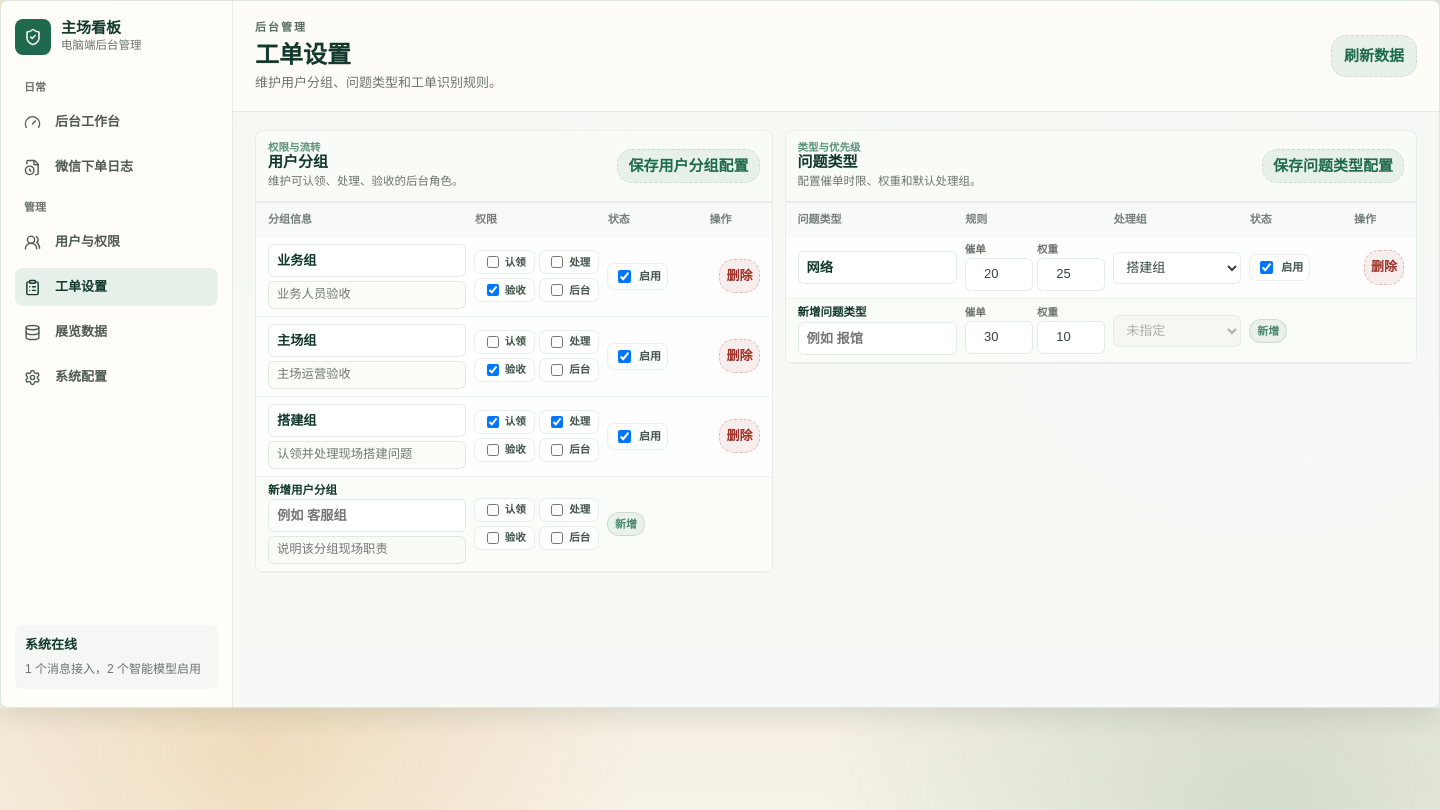
it: AdminConfigCenter user groups › shows validation feedback as a floating admin toast instead of occupying the settings layout
Clear the field named "网络名称" at (877, 268), box [798, 251, 957, 284]
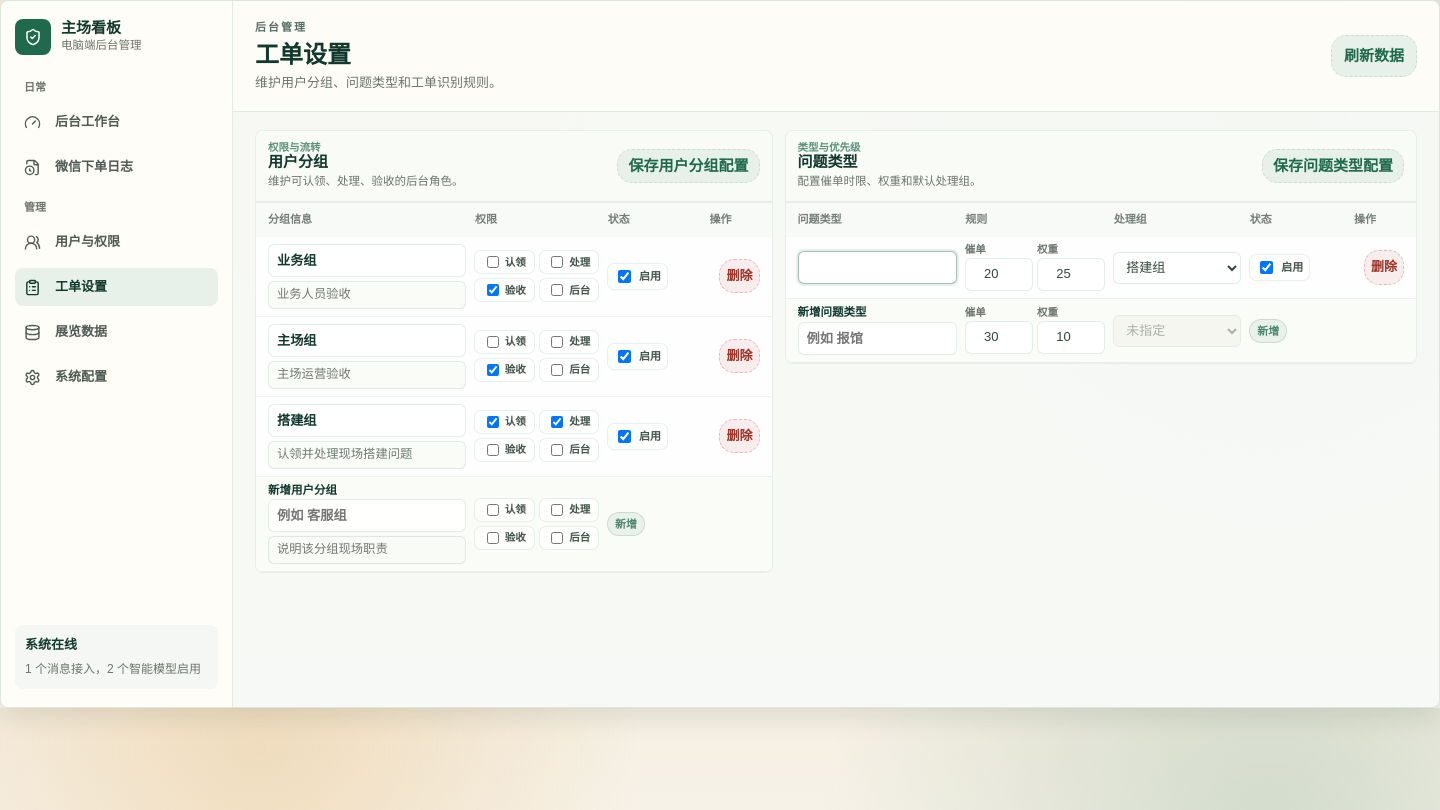
Click the button "保存问题类型配置" at (1333, 166), box [1262, 149, 1404, 183]
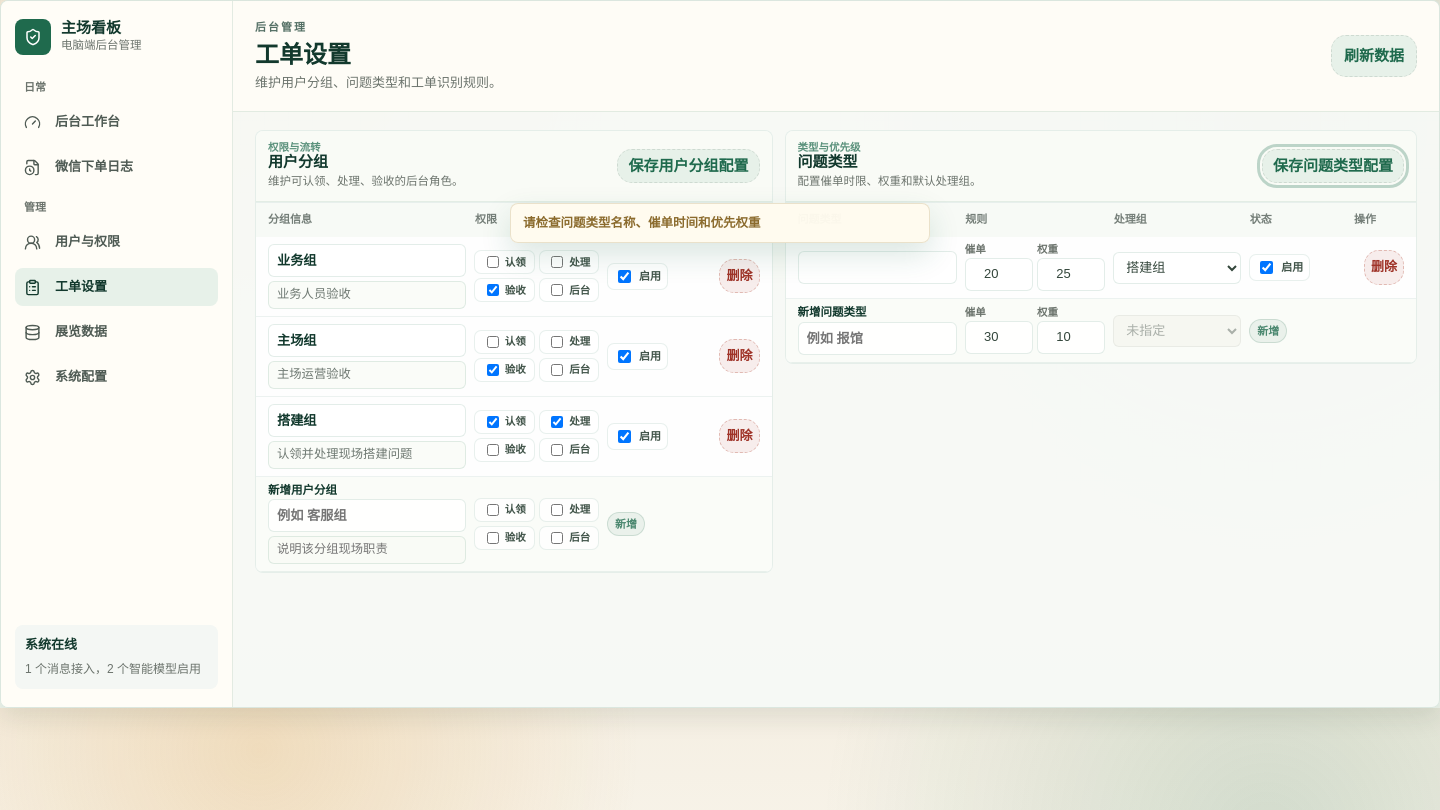
expect the message reads "请检查问题类型名称、催单时间和优先权重": met, box [523, 216, 760, 230]
